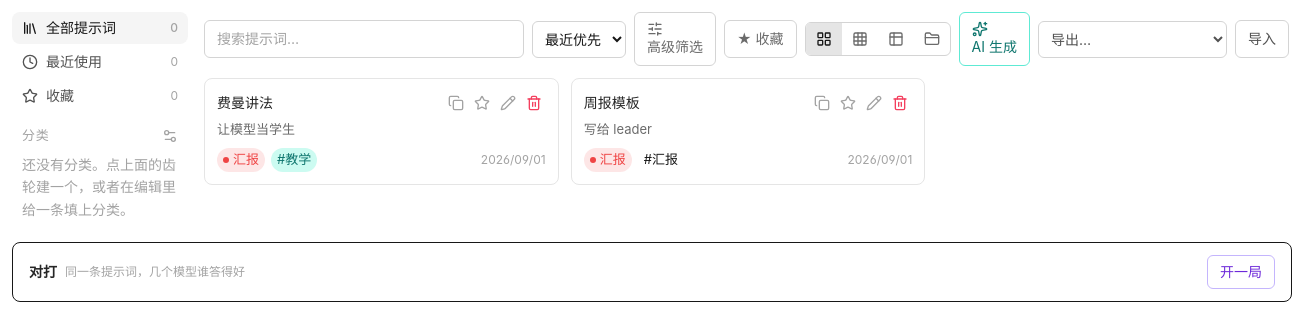
Scenario: PromptLibrary · 库 › 搜的是标题、正文和标签三处
Expected: the button "费曼讲法" is shown, [217, 93, 440, 113]
Step 1. Type "学生" into the field with placeholder "搜索提示词…" → (364, 39), box [204, 20, 524, 58]
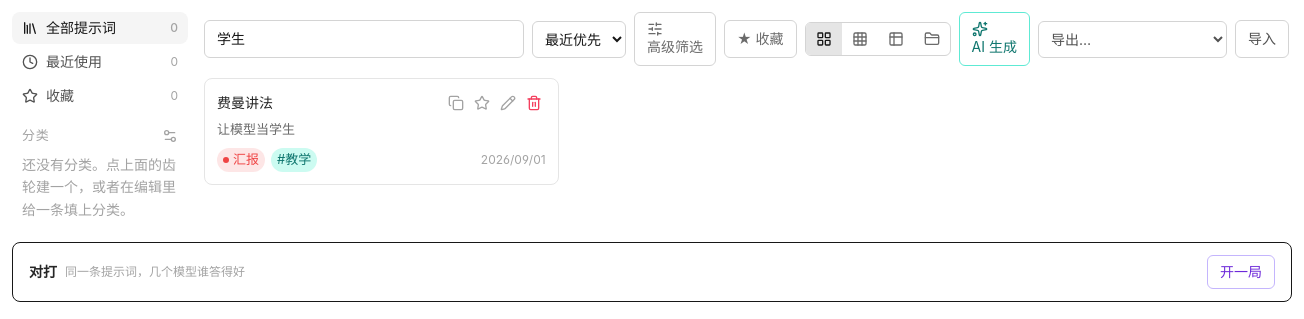
Expected: the button "费曼讲法" is shown, [217, 93, 440, 113]
Result: the button "周报模板" is gone
Step 2. Replace the text in the field with placeholder "搜索提示词…" with "汇报" → (364, 39), box [204, 20, 524, 58]
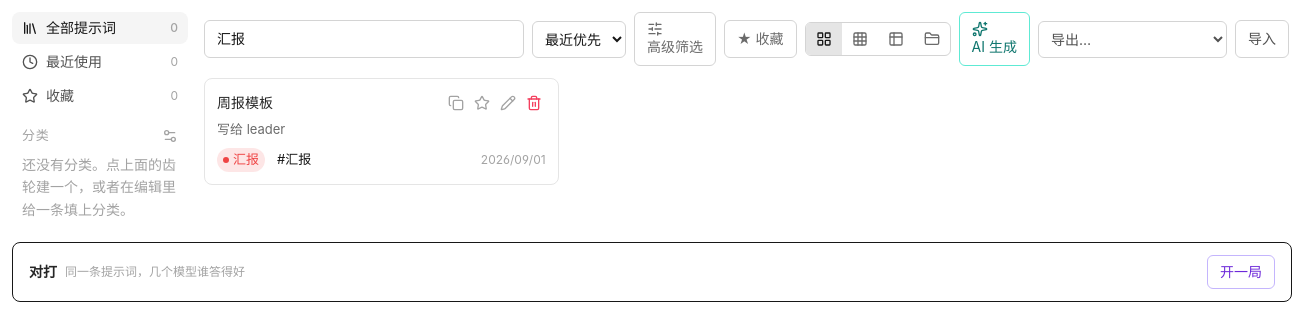
Result: the button "周报模板" is shown at [217, 93, 440, 113]
Result: the button "费曼讲法" is gone
Step 3. Replace the text in the field with placeholder "搜索提示词…" with "没这个词" → (364, 39), box [204, 20, 524, 58]
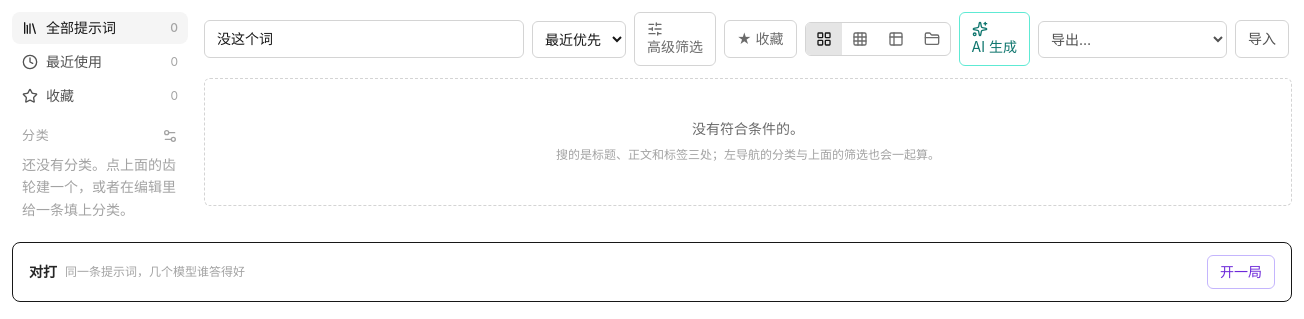
Result: the text "没有符合条件的。" is shown at [692, 120, 804, 137]
